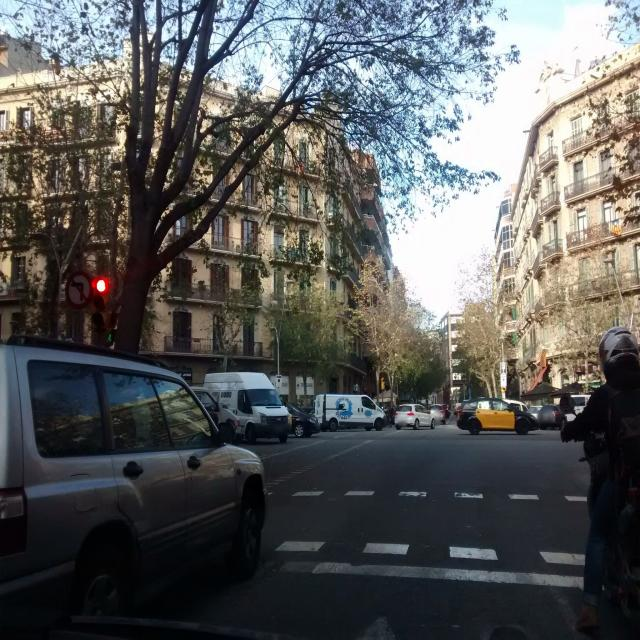bike: (568, 415, 640, 635)
car: (0, 334, 268, 629), (202, 371, 291, 444), (188, 386, 240, 444), (456, 399, 538, 435), (283, 403, 321, 439), (395, 403, 436, 430), (537, 403, 563, 430), (428, 403, 448, 424)
